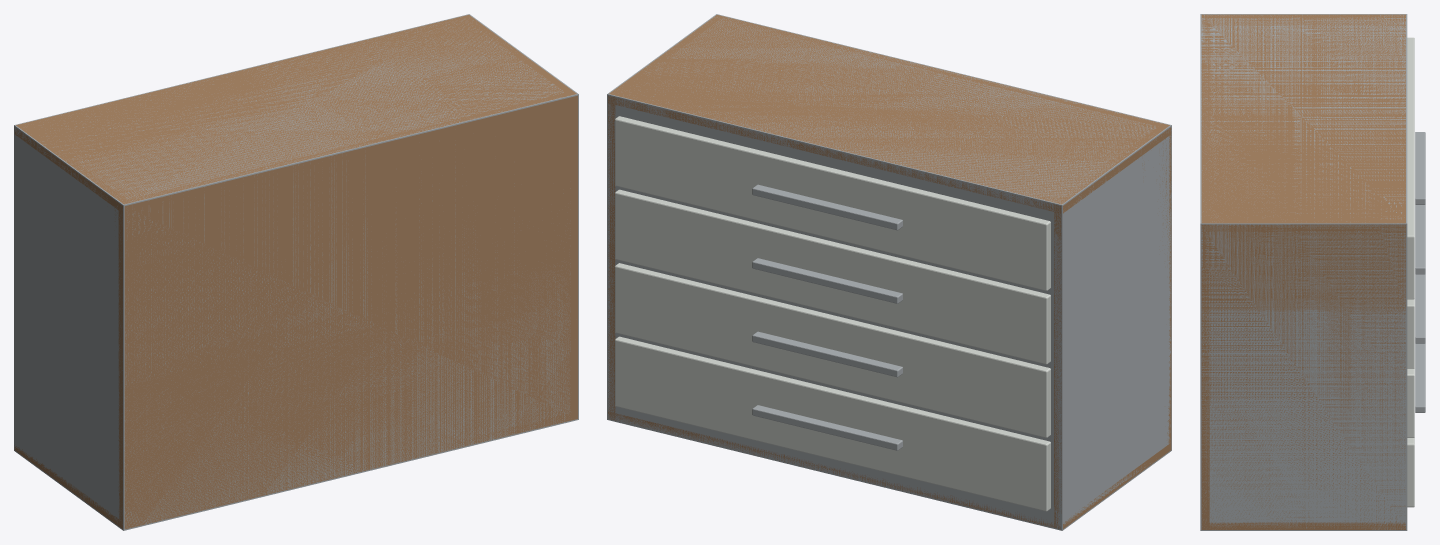
Rendered from dresser.glb.
3 renders of one model, left to right at view 1: azimuth 30°, elevation 25°; view 2: azimuth 150°, elevation 25°; view 3: azimuth 270°, elevation 25°, orthographic. The views are drawn at different scales.
Visible parts, largest first — view 1: propkit_dresser_001_back, propkit_dresser_COL, propkit_dresser_005_top, propkit_dresser_003_side_1, propkit_dresser_004_base, propkit_dresser_002_side_-1; view 2: propkit_dresser_COL, propkit_dresser_005_top, propkit_dresser_010_drawer_2, propkit_dresser_006_drawer_0, propkit_dresser_012_drawer_3, propkit_dresser_008_drawer_1, propkit_dresser_004_base, propkit_dresser_001_back, propkit_dresser_003_side_1, propkit_dresser_002_side_-1, propkit_dresser_007_pull_0, propkit_dresser_011_pull_2 (+2 smaller); view 3: propkit_dresser_COL, propkit_dresser_005_top, propkit_dresser_003_side_1, propkit_dresser_001_back, propkit_dresser_012_drawer_3, propkit_dresser_004_base, propkit_dresser_002_side_-1, propkit_dresser_013_pull_3, propkit_dresser_007_pull_0, propkit_dresser_009_pull_1, propkit_dresser_011_pull_2, propkit_dresser_008_drawer_1 (+2 smaller).
Part boxes in pixels (left/top/right/bottom): propkit_dresser_001_back: left=118, top=91, right=577, bottom=529; propkit_dresser_COL: left=14, top=14, right=578, bottom=530; propkit_dresser_005_top: left=14, top=15, right=572, bottom=210; propkit_dresser_003_side_1: left=462, top=15, right=577, bottom=420; propkit_dresser_004_base: left=14, top=412, right=575, bottom=528; propkit_dresser_002_side_-1: left=16, top=124, right=131, bottom=526; propkit_dresser_COL: left=607, top=14, right=1171, bottom=530; propkit_dresser_005_top: left=608, top=17, right=1171, bottom=213; propkit_dresser_010_drawer_2: left=615, top=189, right=1050, bottom=364; propkit_dresser_006_drawer_0: left=615, top=336, right=1050, bottom=511; propkit_dresser_012_drawer_3: left=615, top=116, right=1050, bottom=290; propkit_dresser_008_drawer_1: left=615, top=263, right=1050, bottom=437; propkit_dresser_004_base: left=608, top=411, right=1171, bottom=529; propkit_dresser_001_back: left=713, top=15, right=1171, bottom=449; propkit_dresser_003_side_1: left=608, top=15, right=723, bottom=420; propkit_dresser_002_side_-1: left=1054, top=123, right=1169, bottom=527; propkit_dresser_007_pull_0: left=752, top=405, right=902, bottom=450; propkit_dresser_011_pull_2: left=752, top=258, right=902, bottom=303; propkit_dresser_COL: left=1200, top=14, right=1407, bottom=530; propkit_dresser_005_top: left=1201, top=14, right=1405, bottom=231; propkit_dresser_003_side_1: left=1201, top=220, right=1405, bottom=528; propkit_dresser_001_back: left=1201, top=14, right=1209, bottom=529; propkit_dresser_012_drawer_3: left=1407, top=37, right=1414, bottom=299; propkit_dresser_004_base: left=1203, top=522, right=1405, bottom=529; propkit_dresser_002_side_-1: left=1202, top=14, right=1405, bottom=17; propkit_dresser_013_pull_3: left=1415, top=132, right=1425, bottom=204; propkit_dresser_007_pull_0: left=1415, top=343, right=1425, bottom=412; propkit_dresser_009_pull_1: left=1415, top=274, right=1425, bottom=343; propkit_dresser_011_pull_2: left=1415, top=204, right=1425, bottom=274; propkit_dresser_008_drawer_1: left=1407, top=368, right=1414, bottom=437.
Bounding box in the file's own units: 1.2 × 0.82 × 0.5445.
